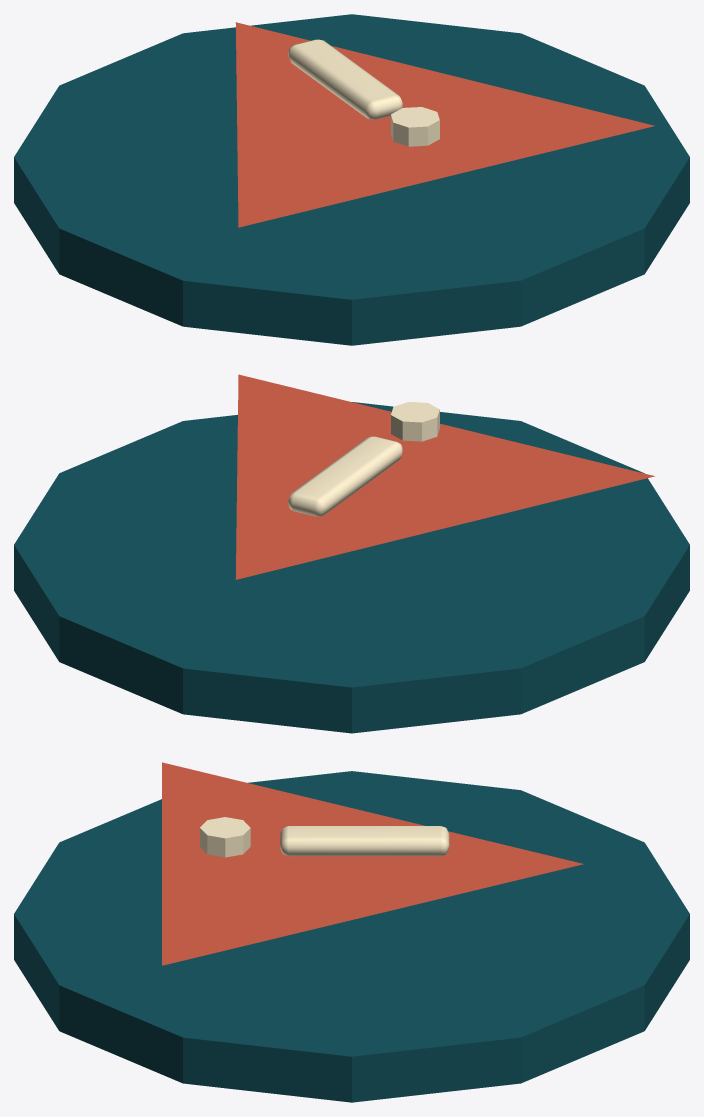
Rendered from Icon_Suspicion.fbx.
The picture shows the model from 3 angles, top to bottom: view 1: azimuth 30°, elevation 25°; view 2: azimuth 150°, elevation 25°; view 3: azimuth 270°, elevation 25°; orthographic projection.
Parts seen in each view (by area): view 1: Icon_Suspicion_Static; view 2: Icon_Suspicion_Static; view 3: Icon_Suspicion_Static.
Part boxes in pixels (x1,y1,x2,y2): Icon_Suspicion_Static: (14,14,689,345); Icon_Suspicion_Static: (14,374,689,733); Icon_Suspicion_Static: (14,762,689,1102).
Bounding box in the file's own units: 1.6 × 0.345 × 1.6.
Materials: 1 (1 with a texture image).
